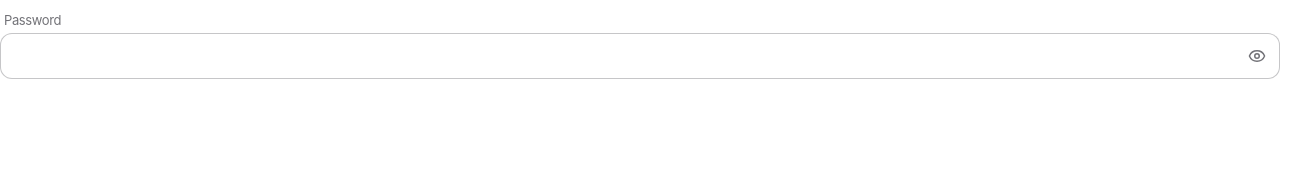
Test: Pulsanti e campi › SecureField mostra e nasconde la password
What coordinates should you click on to do the following:
click the button named "Mostra password"
I would click on:
 (1257, 56)
Its box is [1235,34,1279,78].
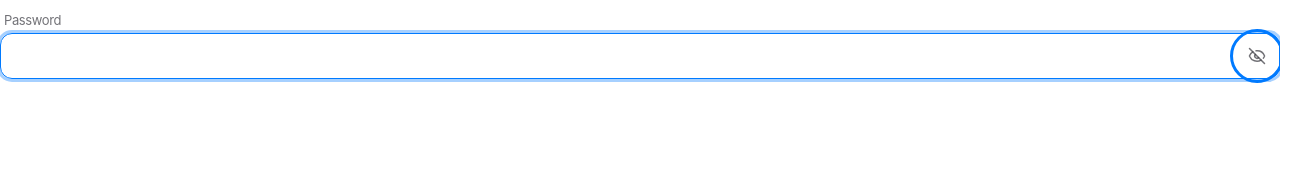
Check: the button named "Nascondi password" is pressed, box [1235,34,1279,78]
